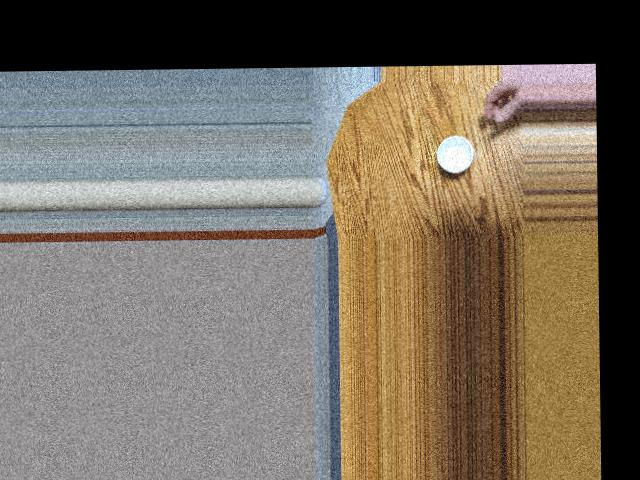cotage: (433, 130, 482, 171)
